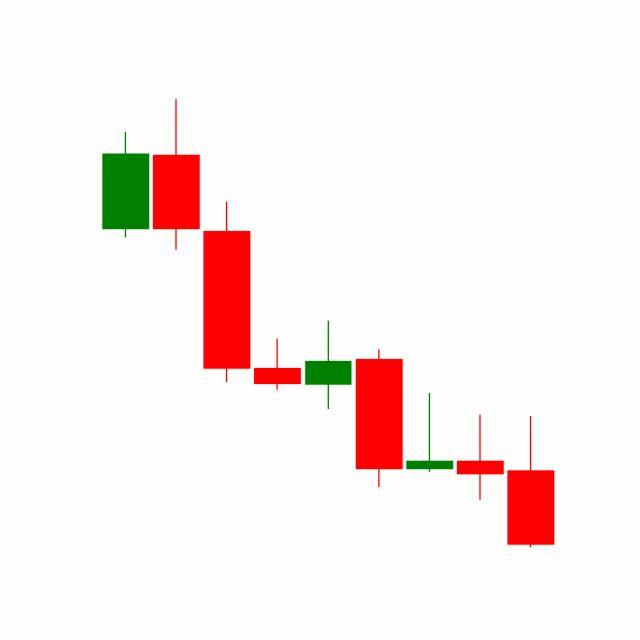Hikkake Pattern: (252, 319, 506, 503)
